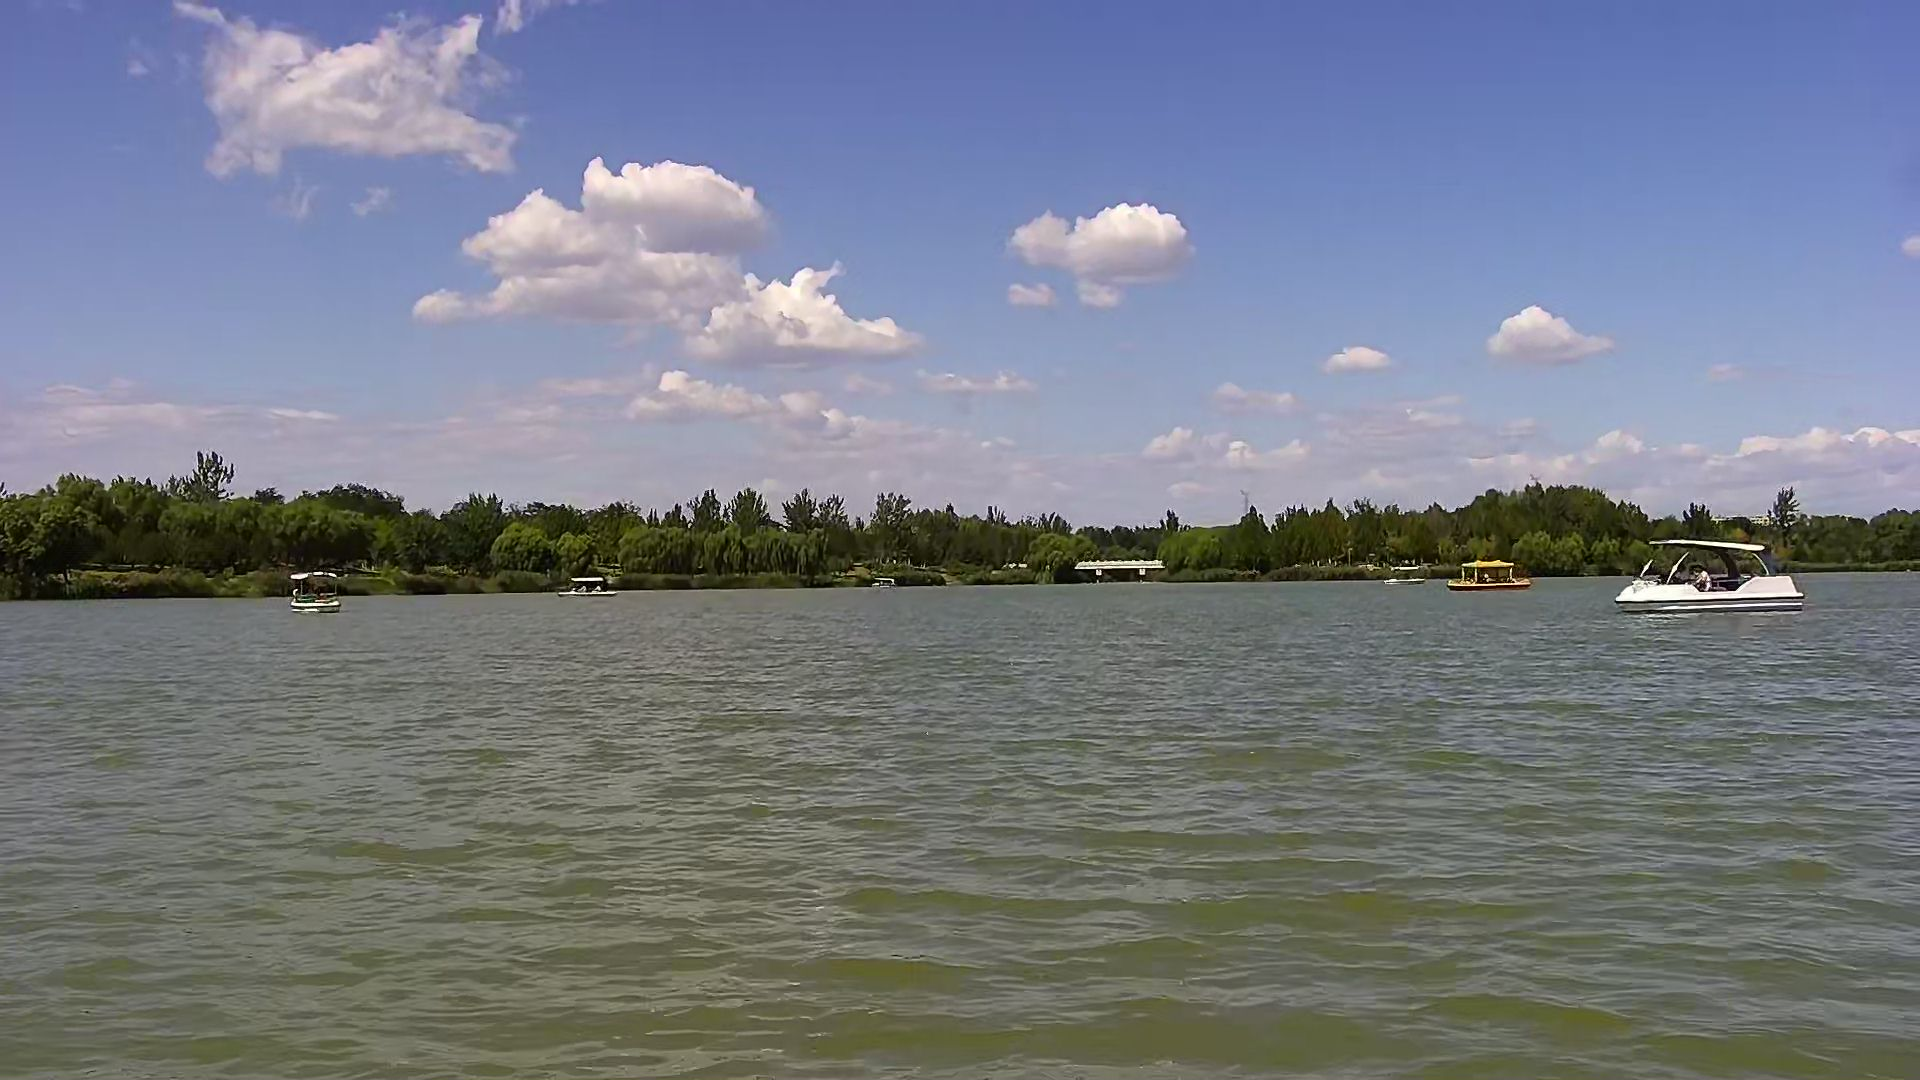boat: (1615, 537, 1807, 615), (1452, 556, 1528, 591), (287, 568, 340, 613), (558, 576, 607, 600), (1381, 563, 1423, 585)
bridge: (1080, 556, 1158, 583)
